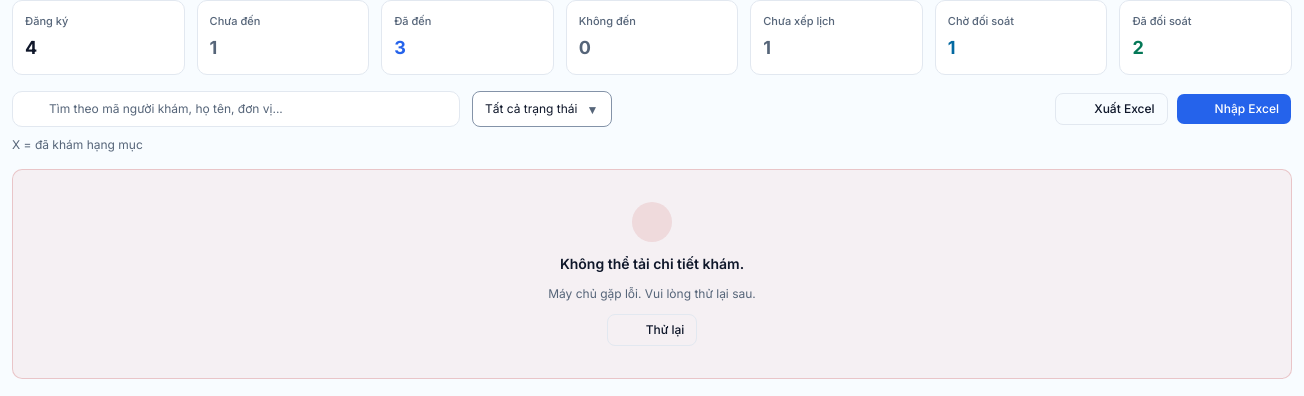
Scenario: ExaminationDetailTab › offers a retry when the list cannot be loaded
Check: the text "Không thể tải chi tiết khám." is shown, box left=560, top=254, right=744, bottom=272
Click the button "Thử lại": (652,330) left=607, top=314, right=697, bottom=346
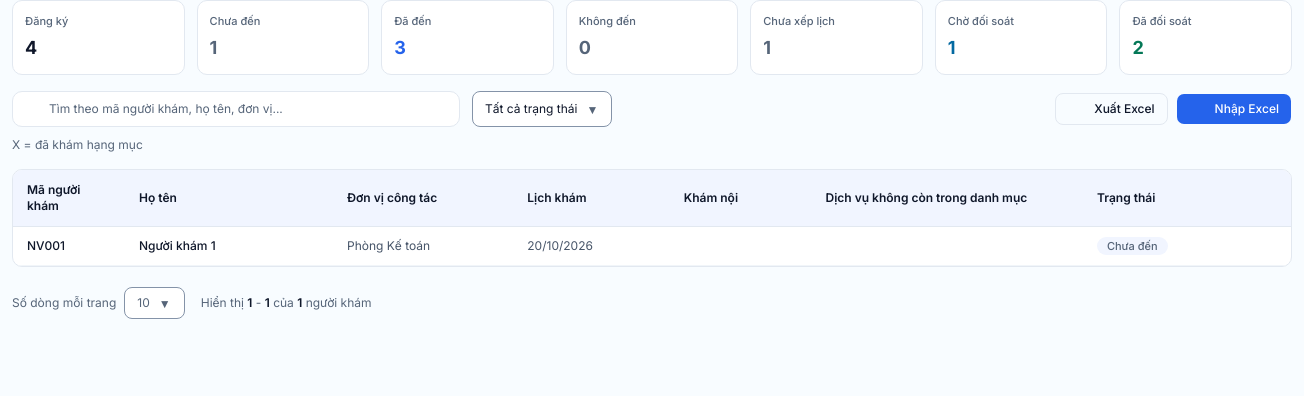
Check: the text "Người khám 1" is shown, box left=125, top=226, right=333, bottom=266
